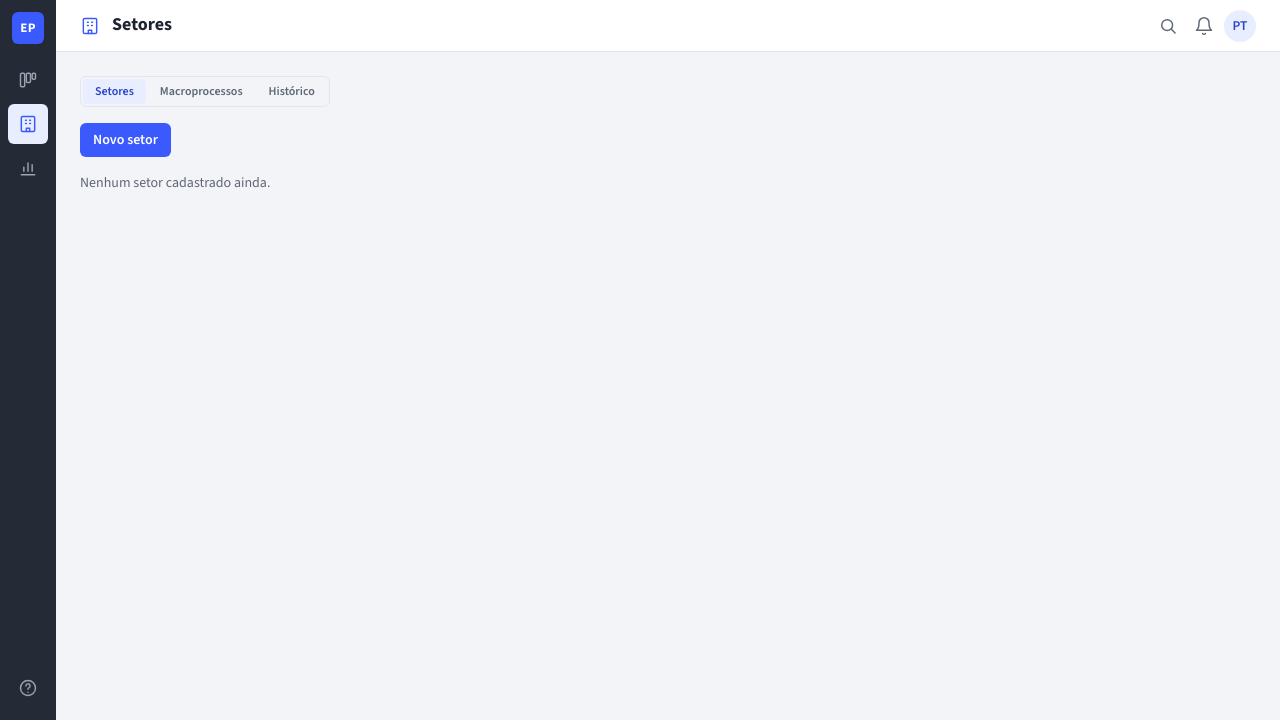
it: o item Processos da faixa lateral, sem forma de ver guardada, leva a #/processos
The width and height of the screenshot is (1280, 720).
Click the button named "Processos".
click(28, 80)  # box [8,60,48,100]
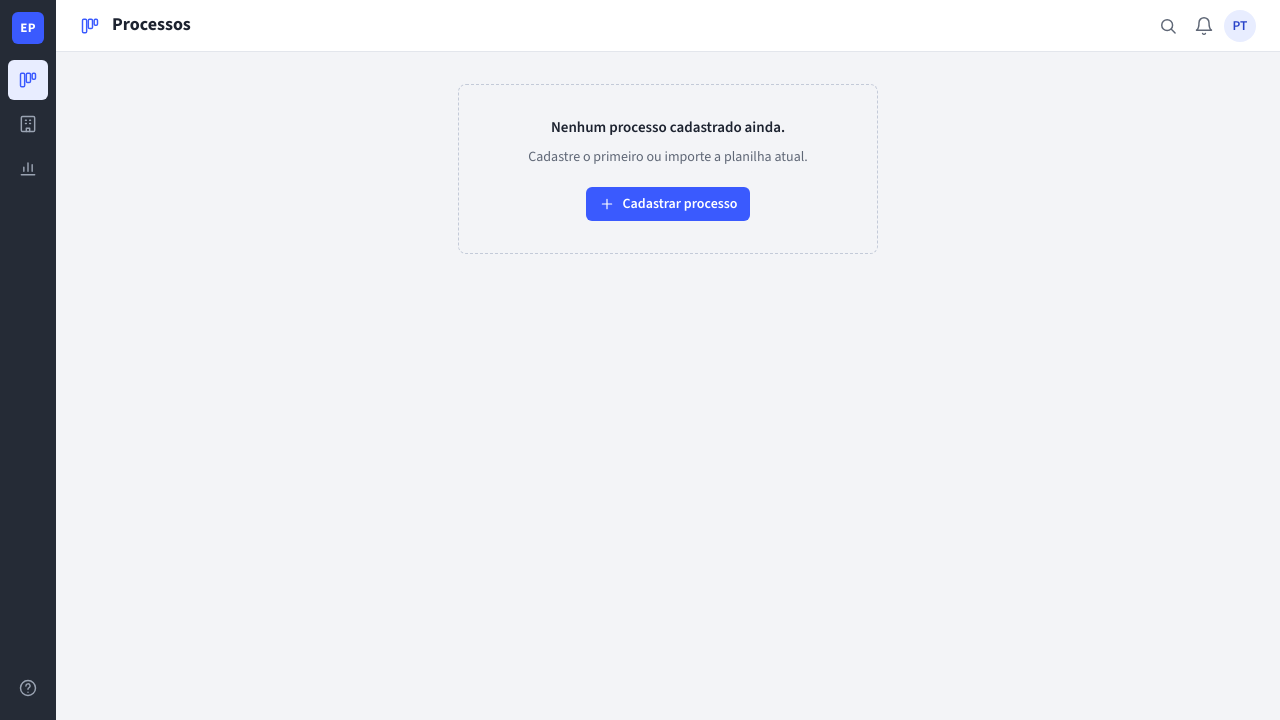
Now the heading "Nenhum processo cadastrado ainda." is shown, box [551,117,785,139]
